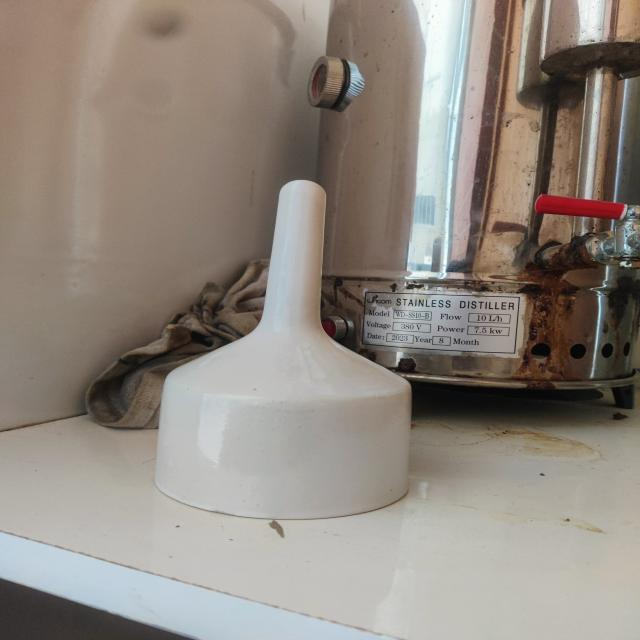Buchner_Funnel: (92, 152, 471, 555)
